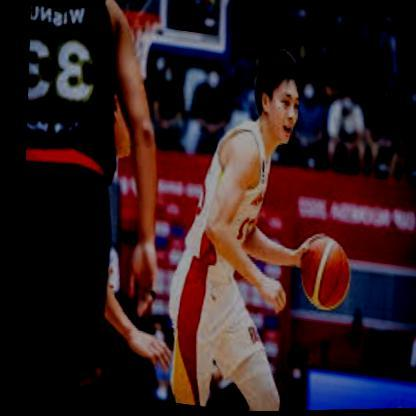basketball: (285, 235, 352, 314)
